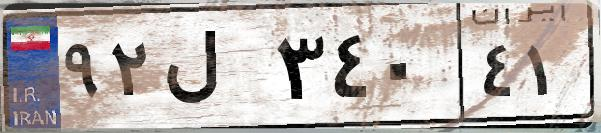0: (385, 28, 445, 110)
1: (525, 38, 570, 115)
2: (110, 28, 158, 98)
3: (270, 28, 330, 110)
4: (330, 28, 385, 110), (475, 38, 525, 113)
9: (57, 26, 110, 100)
ل: (158, 20, 270, 120)
